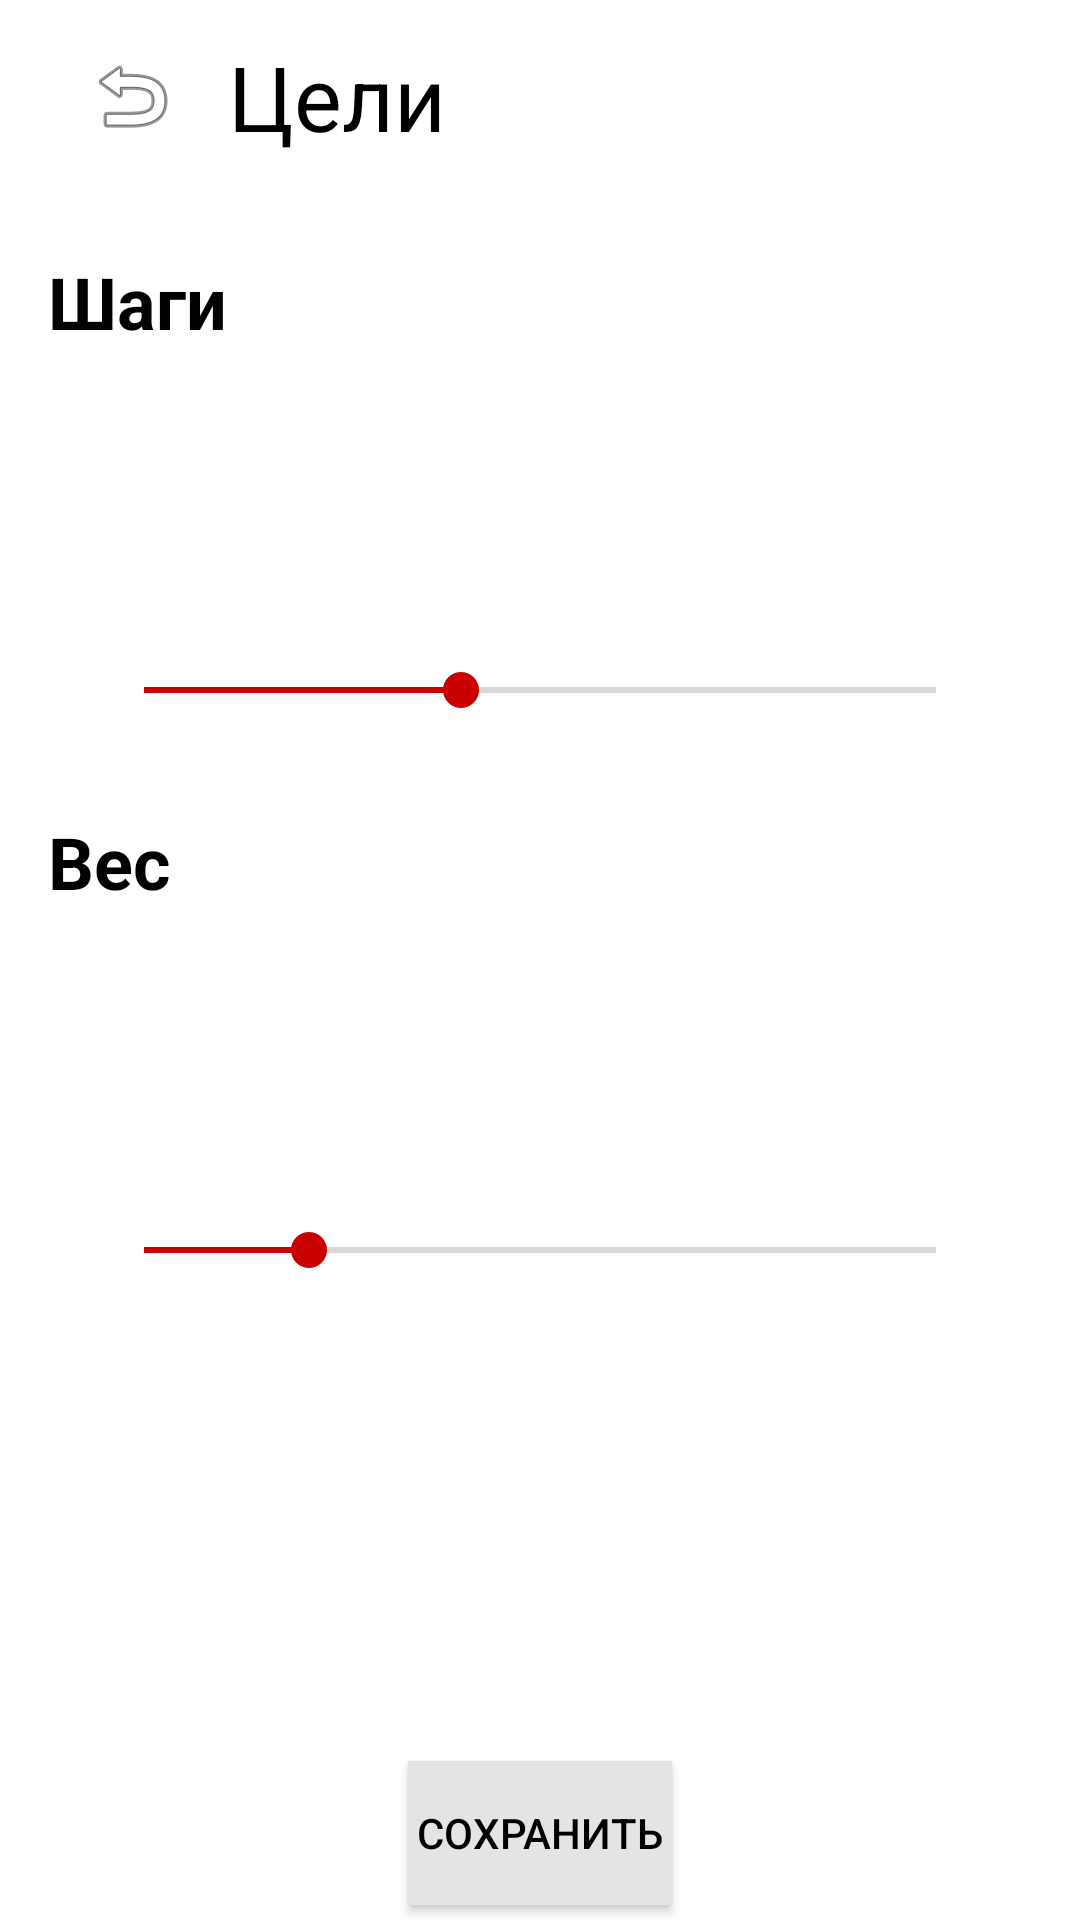

Where icons sit on this 1080x1920 app screen, as (x1, y1, x2, y2):
Назад: (99, 65, 168, 128)
